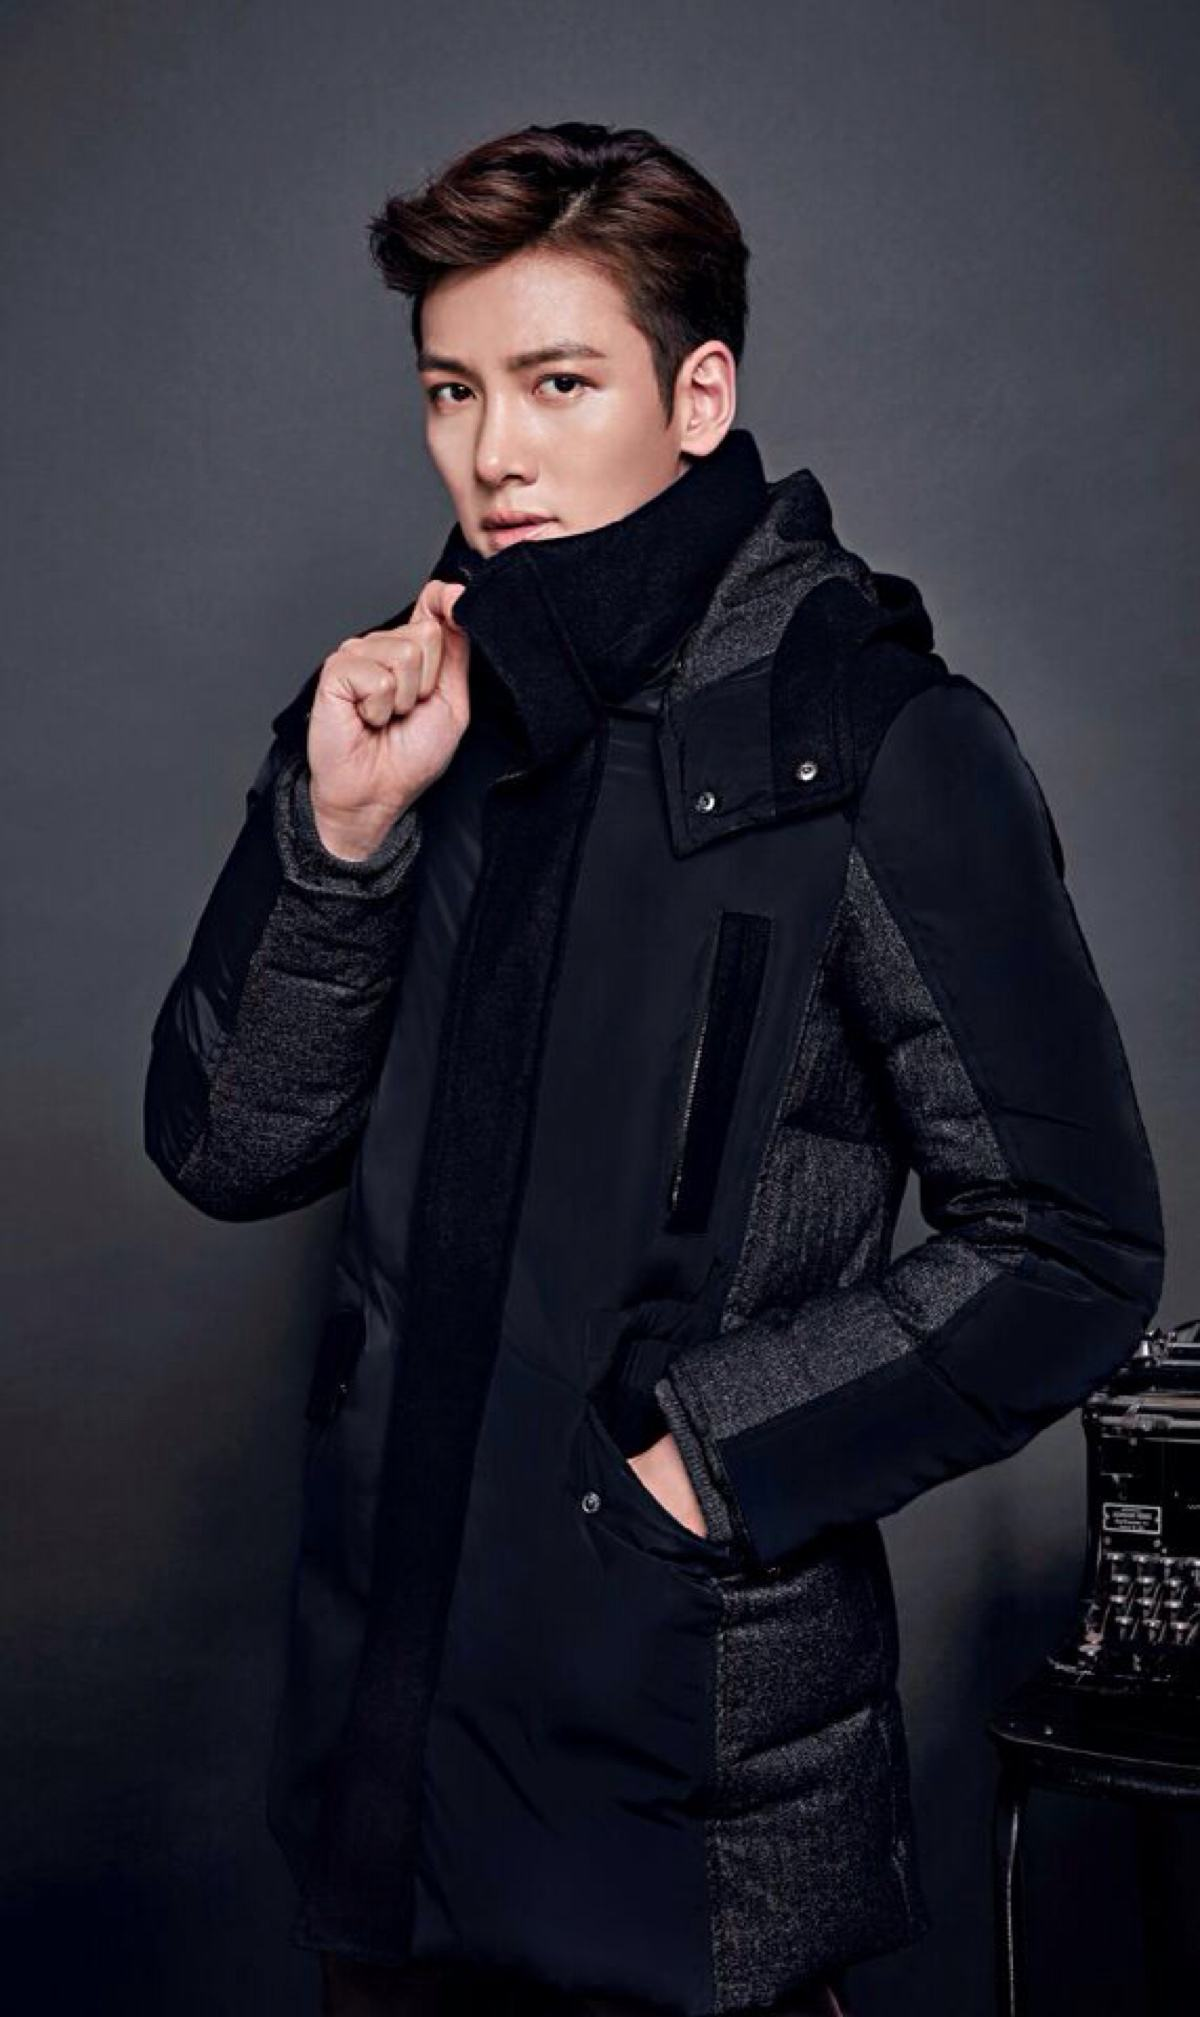person: (256, 54, 1200, 1852)
